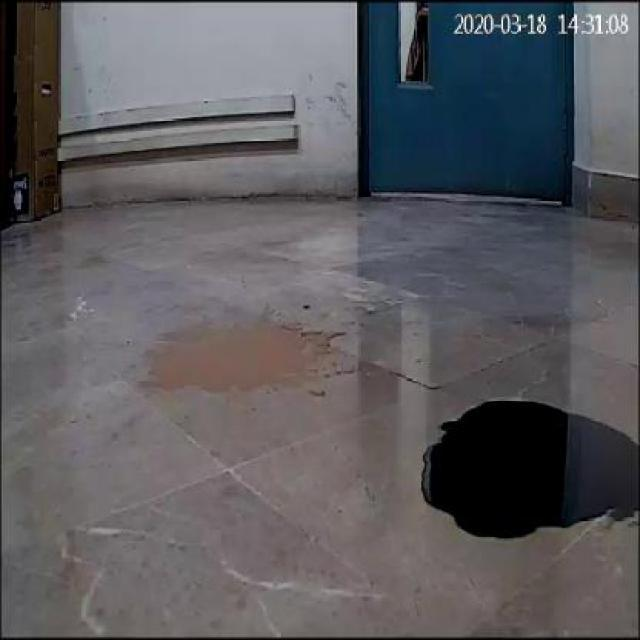spill: (418, 400, 632, 542)
